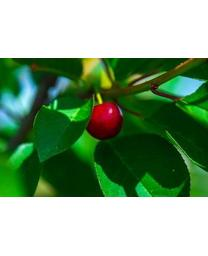cherry: (85, 101, 123, 140)
